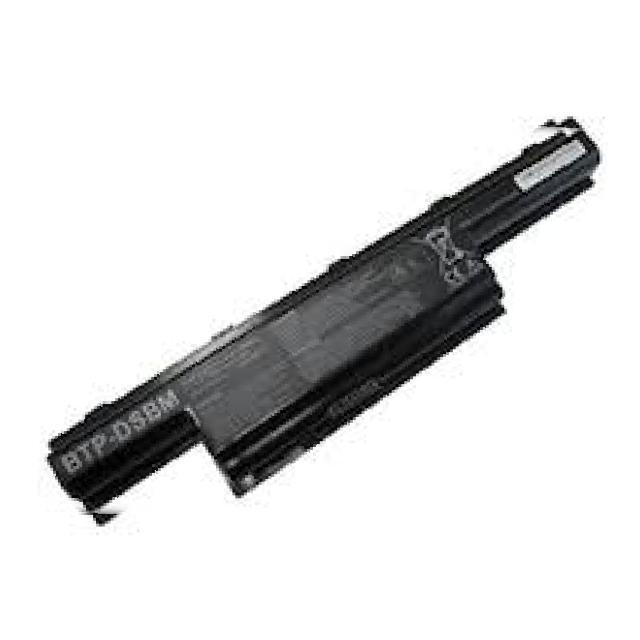Battery: (32, 85, 617, 528)
